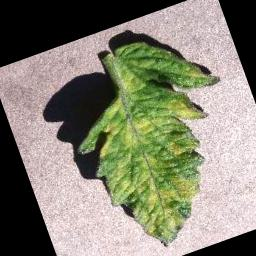Leaf_Mold: (58, 18, 256, 256)
